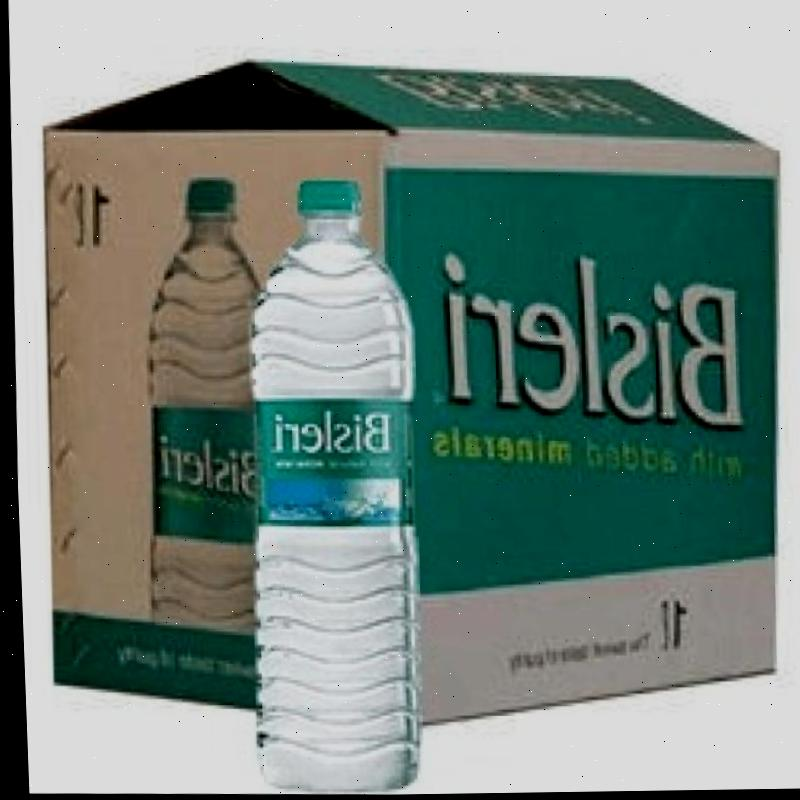botella: (229, 179, 427, 793)
